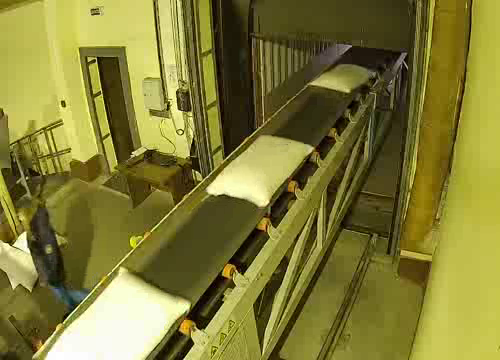bag: (39, 258, 201, 360), (203, 132, 317, 209), (302, 61, 378, 95)
